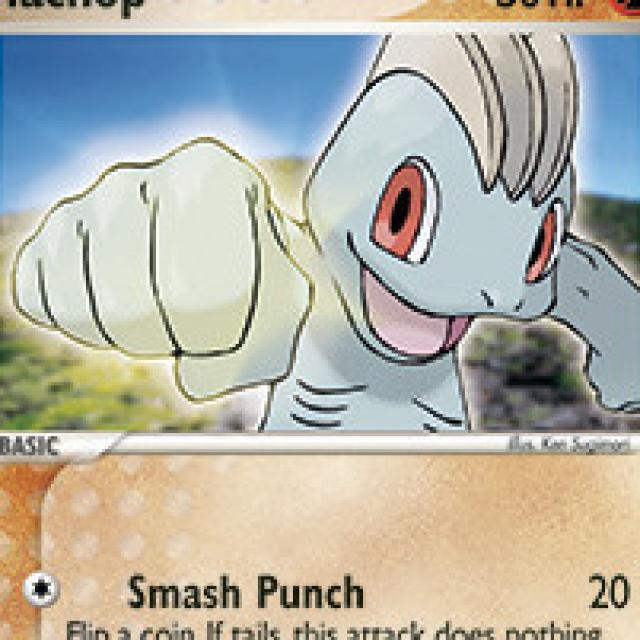Machop: (149, 24, 592, 435)
